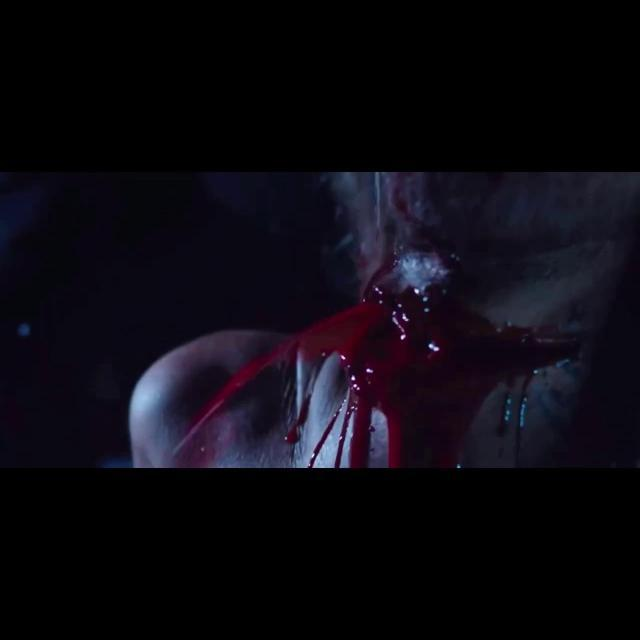blood: (186, 264, 534, 468), (308, 400, 346, 468), (334, 394, 354, 468), (284, 394, 311, 446), (515, 382, 526, 466)
